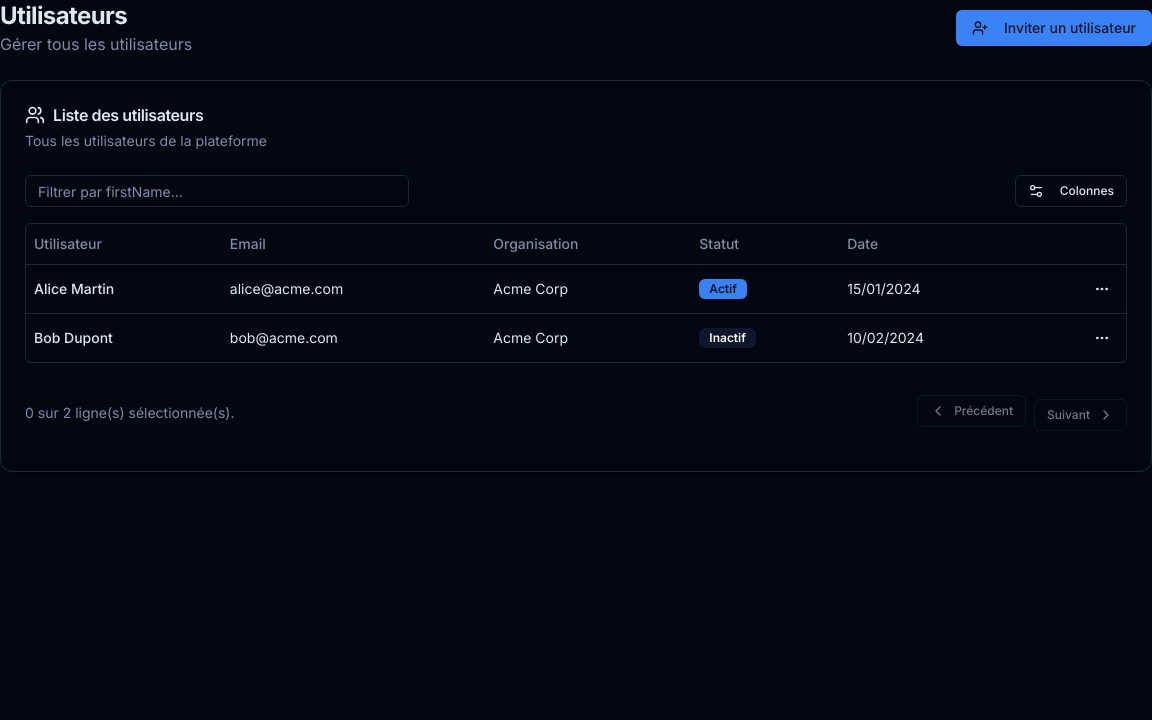
Scenario: UsersPage › opens InviteUserModal when invite button is clicked
Step 1. Click the button with test id "invite-user-btn" → (1054, 28), box top-left (956, 10), bottom-right (1151, 46)
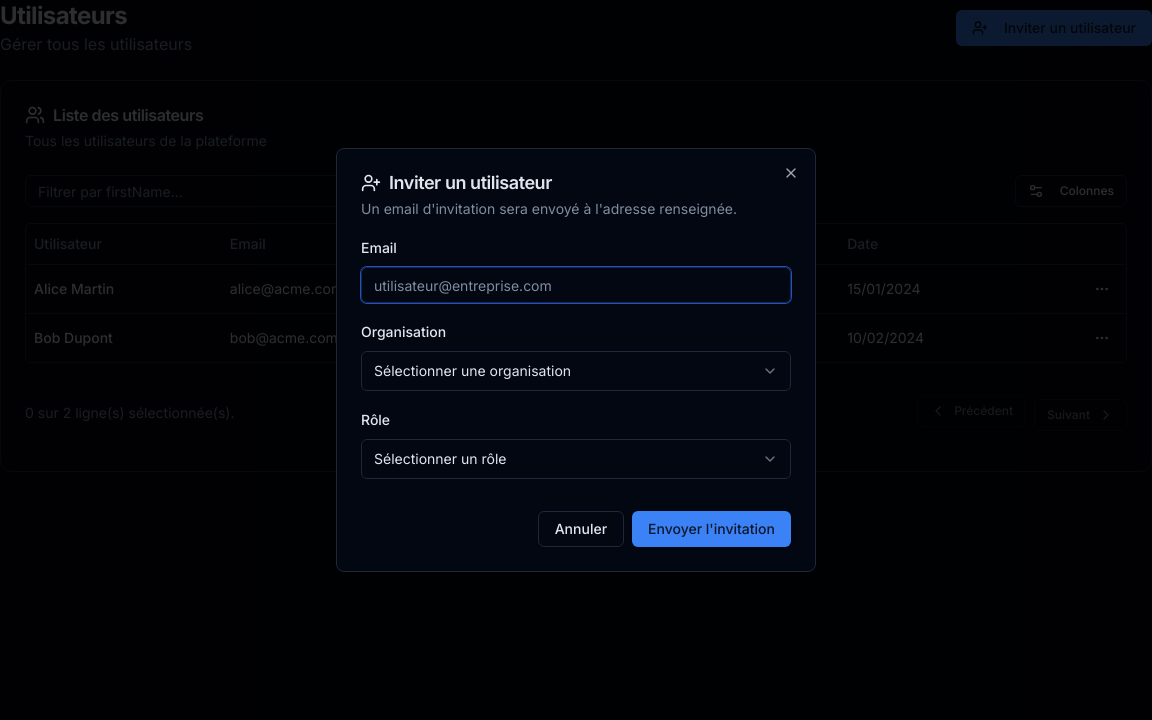
Expected: the text "Un email d'invitation sera envoyé à l'adresse renseignée." is shown, top-left (361, 199), bottom-right (791, 219)
